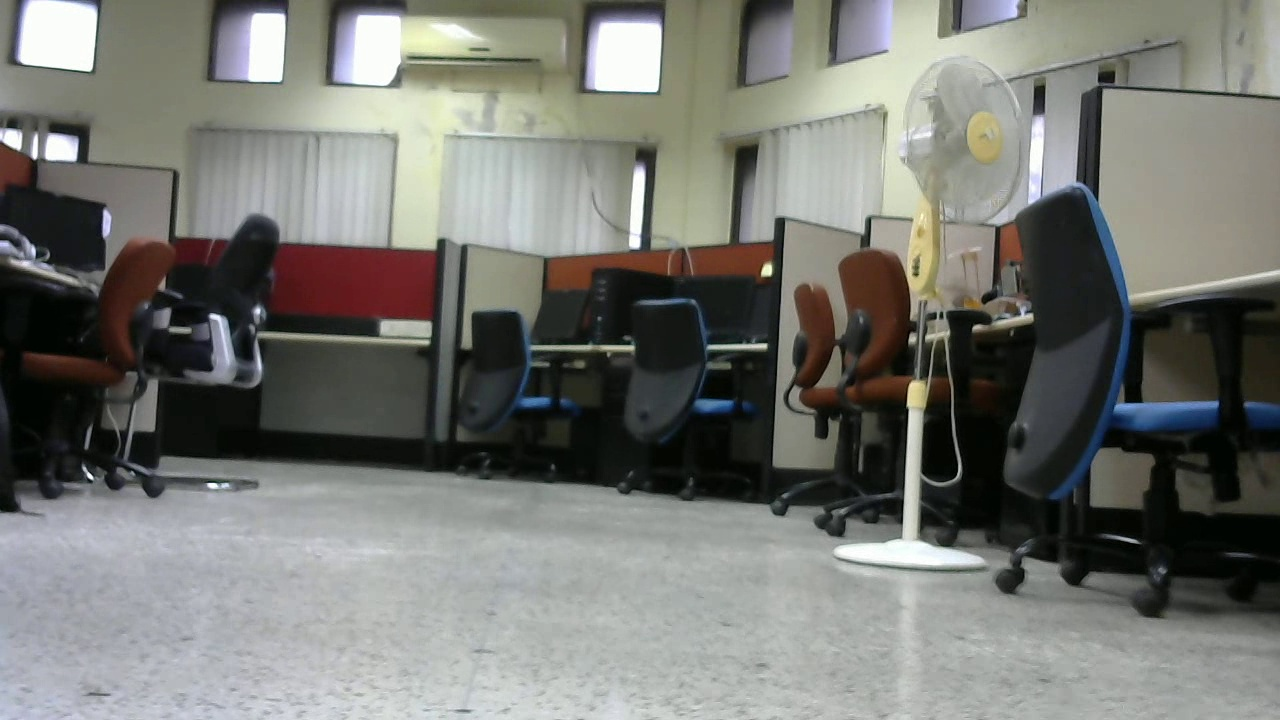chair: (993, 180, 1280, 623), (829, 248, 1003, 543), (14, 230, 179, 471), (148, 212, 283, 495), (755, 262, 887, 528), (613, 293, 768, 504), (448, 307, 595, 493)
